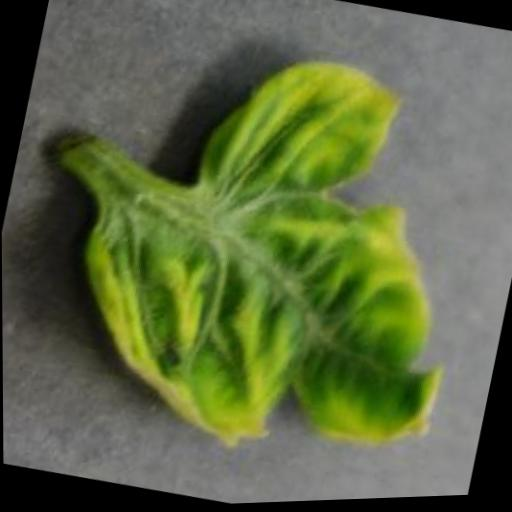Yellow Leaf Curl Virus: (49, 15, 503, 497)
